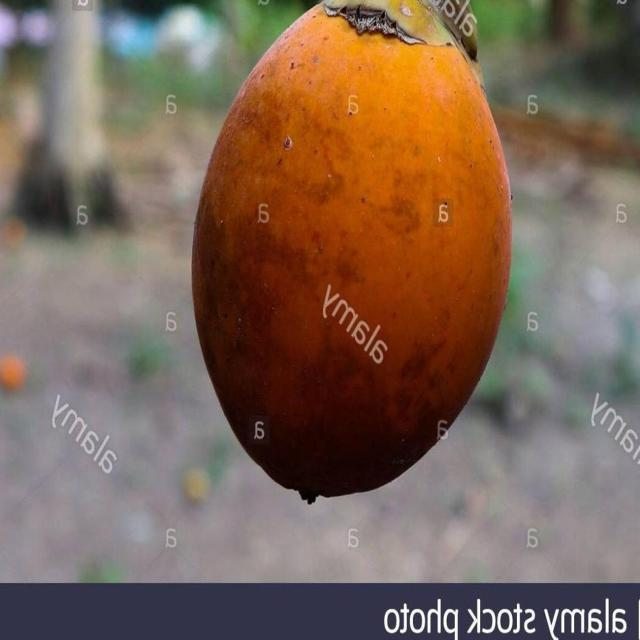good: (190, 0, 513, 505)
